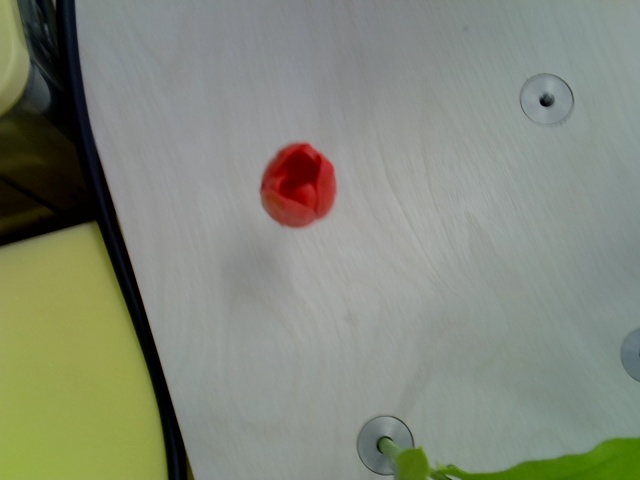튤립: (258, 142, 340, 230)
